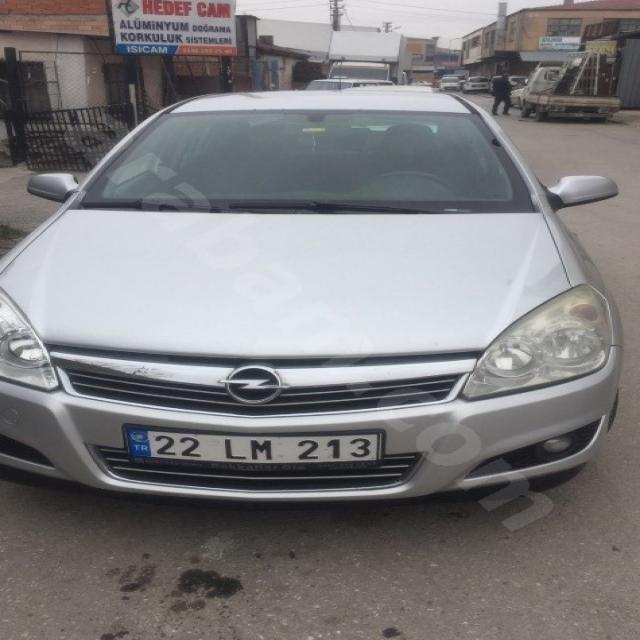license_plate: (124, 427, 380, 463)
